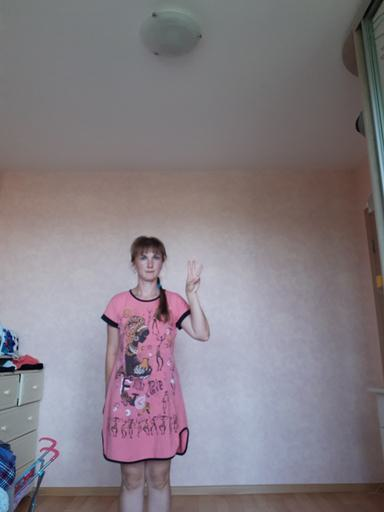three: (181, 256, 205, 299)
